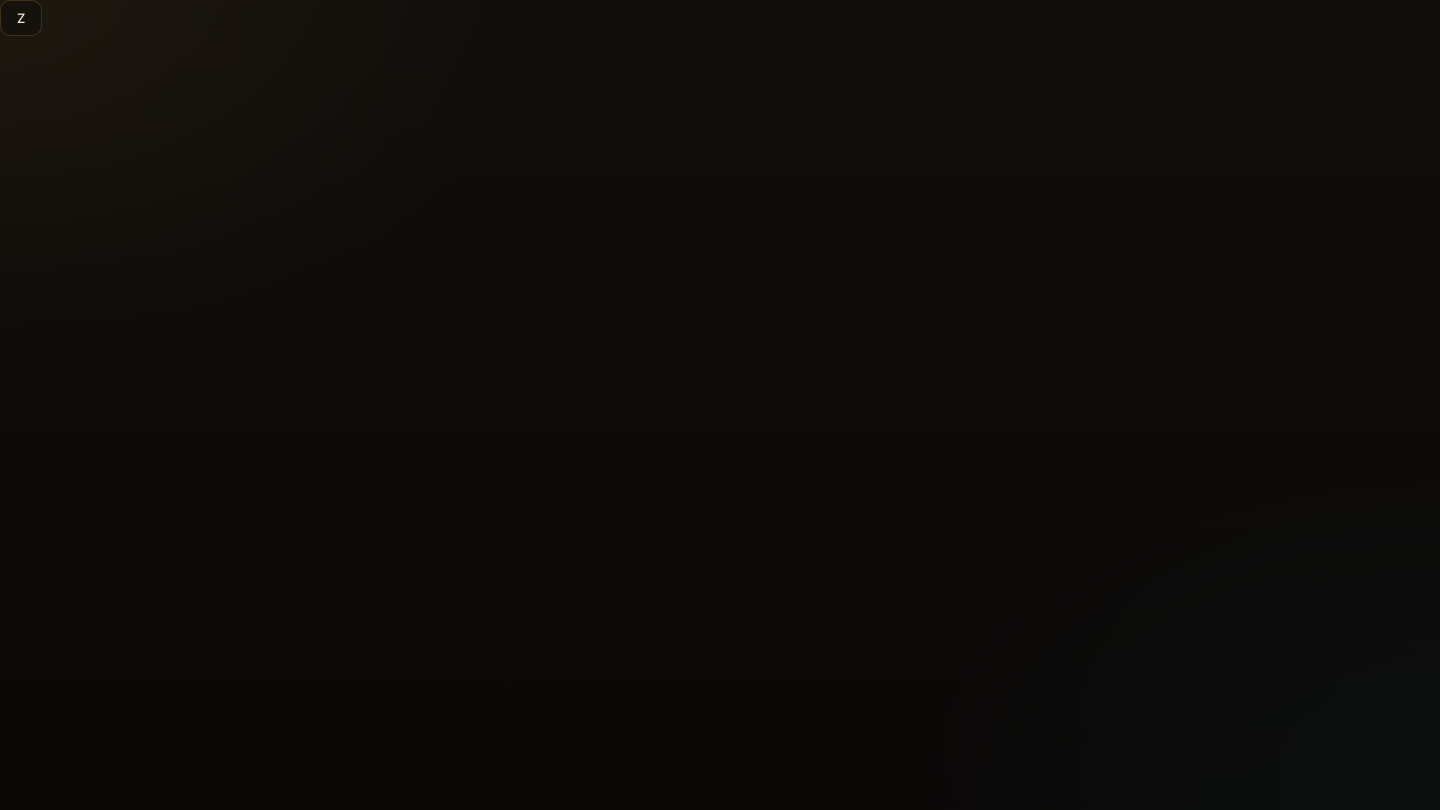
<BindAction> › explicit confirm prop forces confirm even when not destructive
Click the button with test id "bind-action-z.z-button" at (21, 18), box [0,0,42,36]
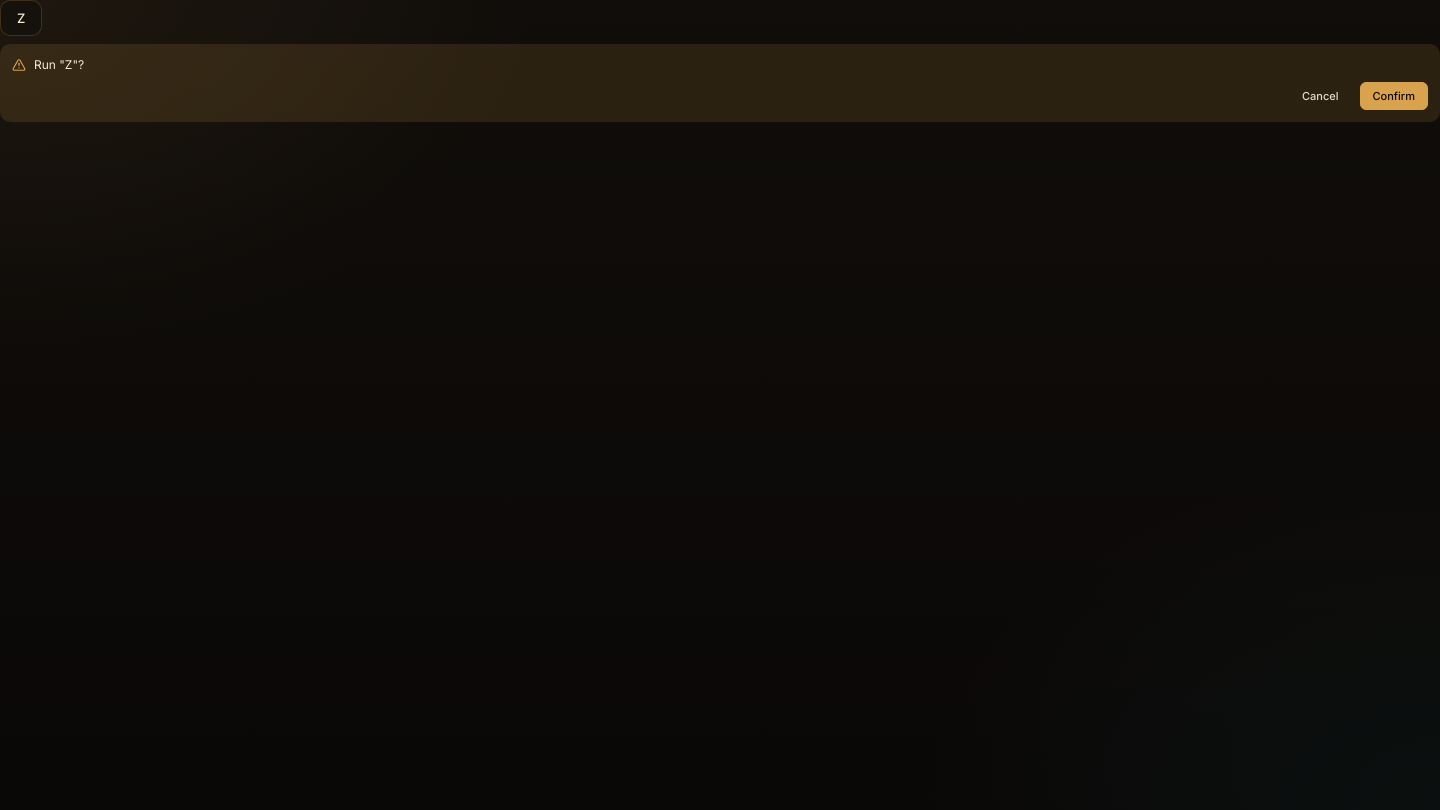
Check: the dialog with test id "bind-action-z.z-confirm-panel" is shown, box [0,44,1439,122]
